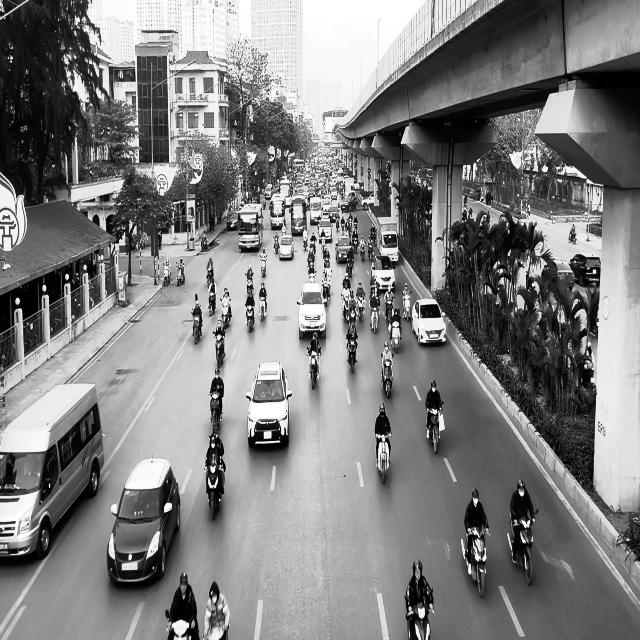bus: (0, 382, 104, 559)
car: (106, 457, 181, 585), (245, 360, 292, 448), (296, 281, 326, 339), (412, 297, 446, 345), (541, 258, 575, 294), (569, 253, 601, 286), (371, 255, 395, 291), (335, 236, 353, 263), (278, 233, 294, 260)
motorbike: (507, 508, 538, 585), (461, 524, 489, 598), (405, 588, 434, 640), (204, 460, 225, 520), (165, 608, 198, 640), (426, 402, 444, 454), (375, 431, 391, 483), (306, 348, 321, 390), (380, 354, 394, 398), (208, 390, 222, 431), (212, 330, 225, 367), (346, 335, 358, 373), (389, 319, 402, 353), (192, 312, 202, 344), (244, 302, 254, 332), (176, 261, 185, 286), (208, 289, 216, 317), (245, 272, 254, 296), (259, 294, 267, 321), (163, 263, 171, 286), (260, 255, 266, 277)
